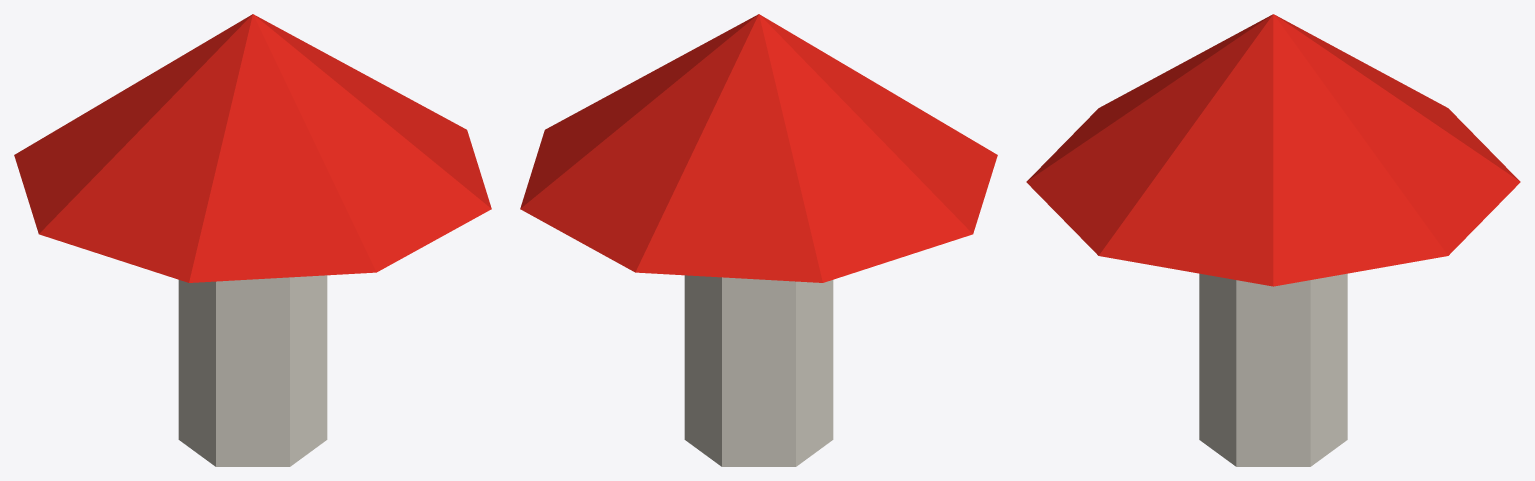
Rendered from mushroom_red.glb.
The picture shows the model from 3 angles, left to right: view 1: azimuth 30°, elevation 25°; view 2: azimuth 150°, elevation 25°; view 3: azimuth 270°, elevation 25°; orthographic projection.
Parts seen in each view (by area): view 1: mushroom_red; view 2: mushroom_red; view 3: mushroom_red.
Part boxes in pixels (bbox=[...]): mushroom_red: bbox=[14, 14, 491, 466]; mushroom_red: bbox=[520, 14, 997, 466]; mushroom_red: bbox=[1026, 14, 1520, 466].
Bounding box in the file's own units: 0.4 × 0.38 × 0.4.
